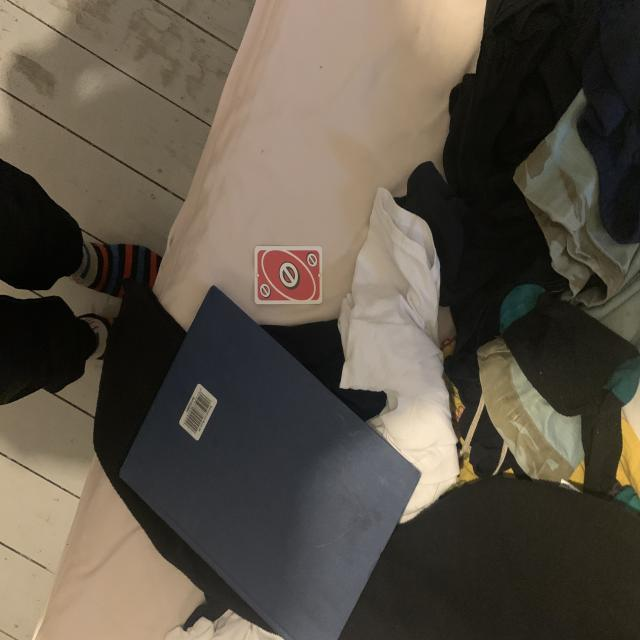lredskip-20: (304, 252, 318, 269)
